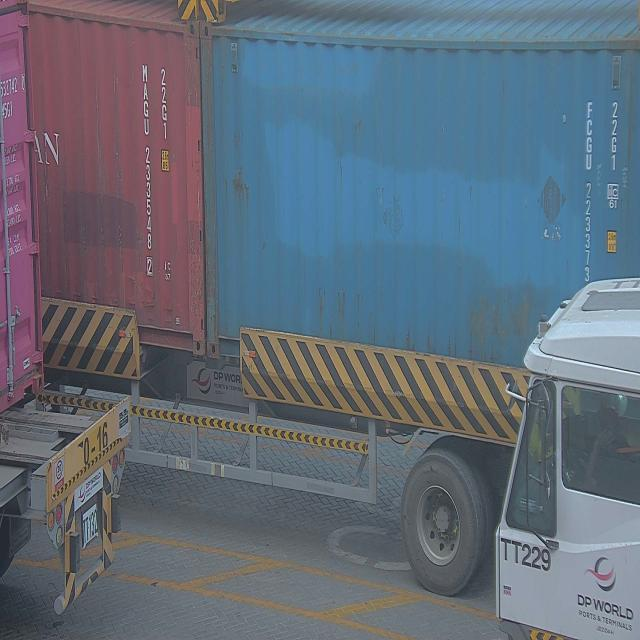rust: (198, 27, 219, 147)
